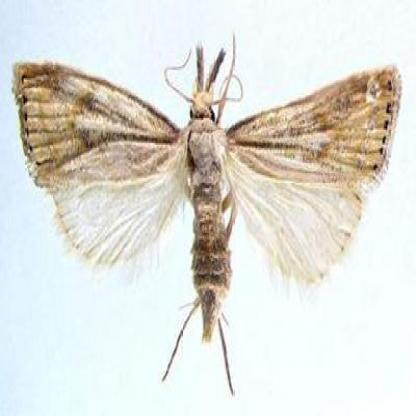stem-borer: (10, 29, 404, 401)
